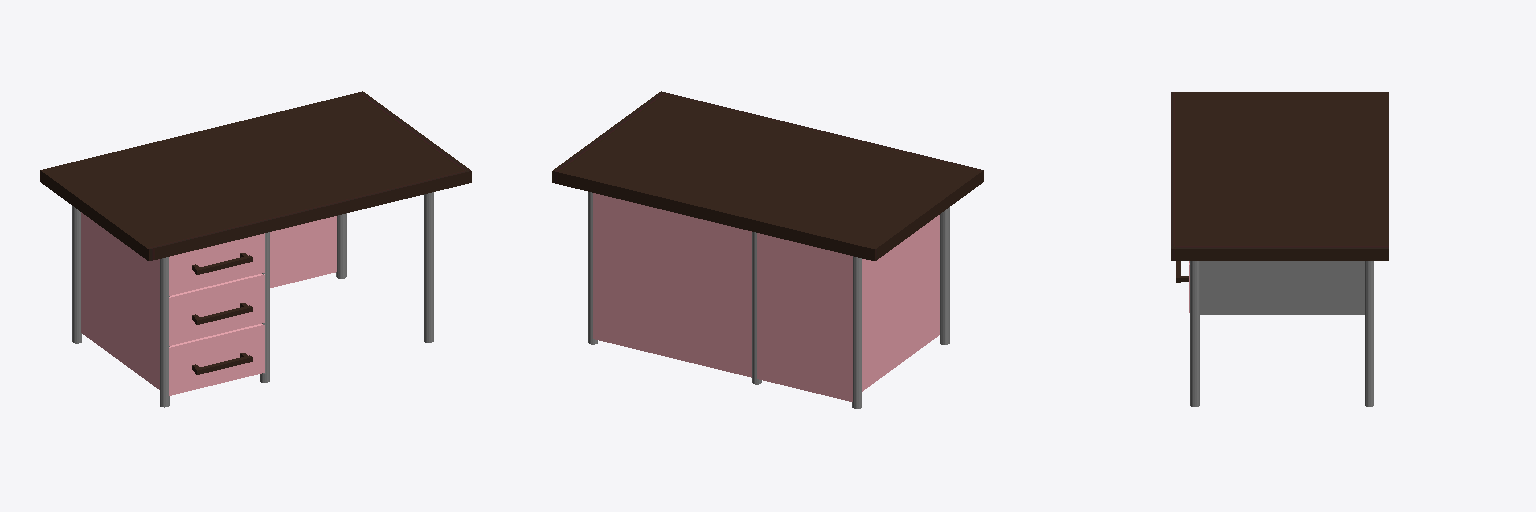
3 renders of one model, left to right at view 1: azimuth 30°, elevation 25°; view 2: azimuth 150°, elevation 25°; view 3: azimuth 270°, elevation 25°, orthographic.
Parts seen in each view (by area): view 1: Box029, Box019, Box027, Box020, Box031, Box032, Cylinder011, Cylinder007, Cylinder010, Cylinder012, Cylinder009; view 2: Box029, Box031, Box019, Cylinder010, Cylinder007, Cylinder009, Cylinder008; view 3: Box029, Box023, Cylinder011, Cylinder009.
Boxes of the visible parts, <box> form: Box029: <box>40,91,471,260</box>; Box019: <box>81,212,159,389</box>; Box027: <box>169,274,264,345</box>; Box020: <box>169,324,264,395</box>; Box031: <box>270,216,336,287</box>; Box032: <box>169,233,264,295</box>; Cylinder011: <box>424,192,433,342</box>; Cylinder007: <box>160,257,169,407</box>; Cylinder010: <box>72,206,81,343</box>; Cylinder012: <box>260,232,269,382</box>; Cylinder009: <box>336,213,346,278</box>; Box029: <box>552,91,983,260</box>; Box031: <box>593,193,852,401</box>; Box019: <box>862,215,939,391</box>; Cylinder010: <box>852,256,861,408</box>; Cylinder007: <box>940,207,949,344</box>; Cylinder009: <box>588,192,597,344</box>; Cylinder008: <box>752,232,761,384</box>; Box029: <box>1171,92,1388,260</box>; Box023: <box>1200,261,1364,314</box>; Cylinder011: <box>1190,261,1199,406</box>; Cylinder009: <box>1365,261,1373,406</box>.
Size of the model in its own units: 1.29 by 0.6518 by 0.75.
Materials: 3 (2 with a texture image).